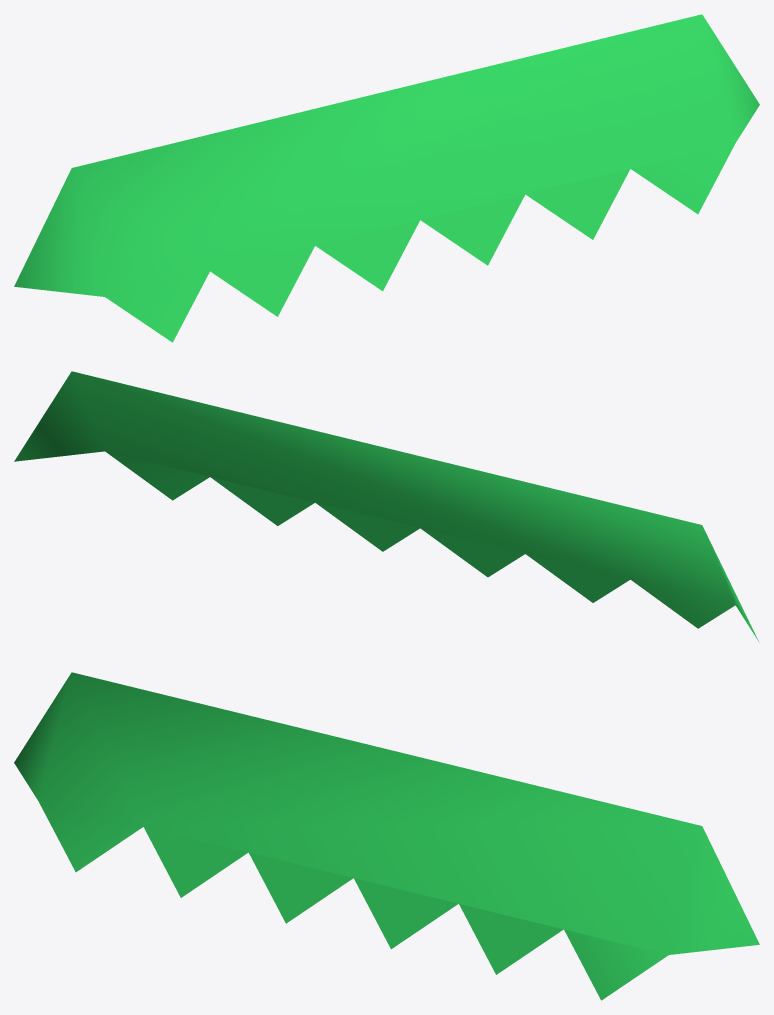
File: grassEdge.fbx
The picture shows the model from 3 angles, top to bottom: view 1: azimuth 30°, elevation 25°; view 2: azimuth 150°, elevation 25°; view 3: azimuth 330°, elevation 25°; orthographic projection.
Parts seen in each view (by area): view 1: Cube.001; view 2: Cube.001; view 3: Cube.001.
Boxes of the visible parts, x1,y1,x2,y2 form: Cube.001: [14, 14, 759, 342]; Cube.001: [14, 371, 759, 642]; Cube.001: [14, 672, 759, 1000].
Size of the model in its own units: 118 by 23.04 by 13.3.
